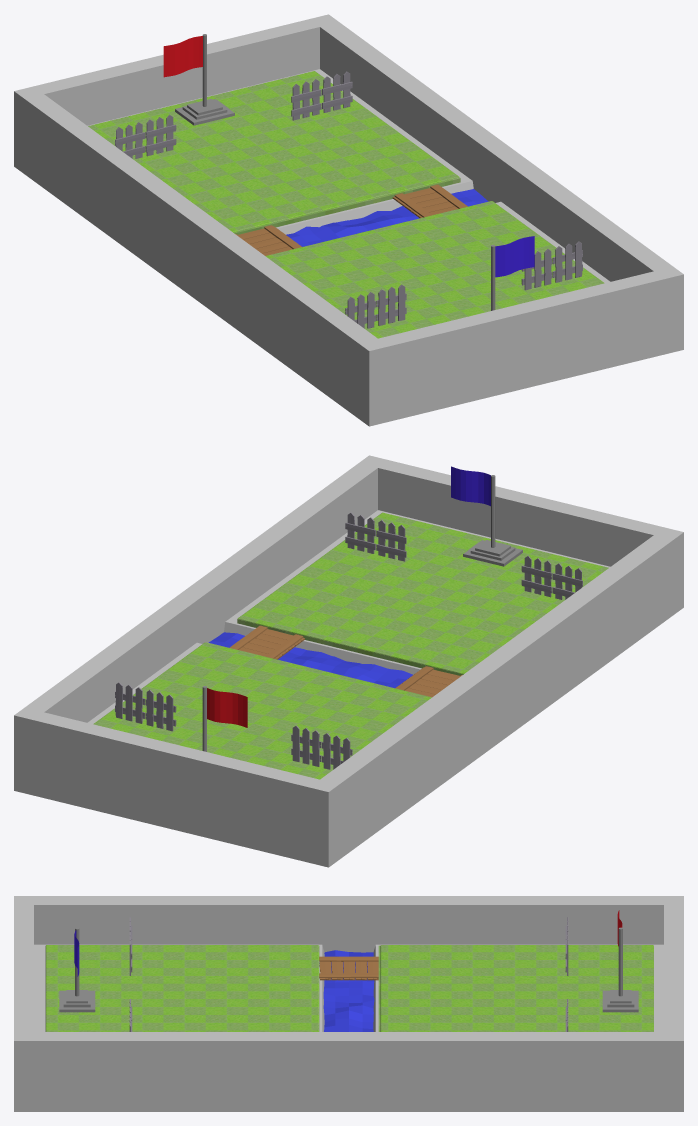
Rendered from map new.fbx.
3 renders of one model, top to bottom at view 1: azimuth 30°, elevation 25°; view 2: azimuth 150°, elevation 25°; view 3: azimuth 270°, elevation 25°, orthographic. The views are drawn at different scales.
Parts seen in each view (by area): view 1: Plane.009, Plane.002, Plane.011, Plane.001, Plane.005, Plane.012, Plane.007, Plane.008, Plane, Plane.006, Plane.074, Cylinder; view 2: Plane.009, Plane.002, Plane.011, Plane.001, Plane.005, Plane.012, Plane.008, Plane.007, Plane, Plane.006, Plane.074, Cylinder; view 3: Plane.009, Plane.002, Plane.001, Plane.005, Plane.006, Plane.012, Plane.074, Plane.011, Cylinder.
Part boxes in pixels (x1,y1,x2,y2): Plane.009: (14, 14, 683, 426); Plane.002: (88, 71, 604, 338); Plane.011: (115, 71, 582, 328); Plane.001: (87, 69, 610, 282); Plane.005: (286, 189, 488, 246); Plane.012: (238, 188, 458, 255); Plane.007: (495, 236, 534, 277); Plane.008: (163, 36, 202, 77); Plane: (233, 177, 460, 234); Plane.006: (175, 99, 234, 125); Plane.074: (235, 184, 467, 255); Cylinder: (202, 34, 495, 310); Plane.009: (14, 455, 683, 867); Plane.002: (93, 512, 608, 779); Plane.011: (115, 512, 582, 769); Plane.001: (87, 510, 610, 723); Plane.005: (208, 632, 412, 688); Plane.012: (239, 629, 459, 696); Plane.008: (207, 688, 247, 727); Plane.007: (451, 466, 490, 506); Plane: (205, 619, 463, 697); Plane.006: (463, 540, 522, 566); Plane.074: (229, 625, 462, 697); Cylinder: (202, 475, 495, 751); Plane.009: (14, 896, 683, 1111); Plane.002: (45, 945, 653, 1031); Plane.001: (34, 944, 663, 1031); Plane.005: (323, 950, 374, 1031); Plane.006: (59, 990, 638, 1012); Plane.012: (319, 961, 378, 980); Plane.074: (319, 956, 378, 978); Plane.011: (129, 917, 568, 1031); Cylinder: (75, 927, 622, 996).
Bounding box in the file's own units: 617 × 221 × 1207.
